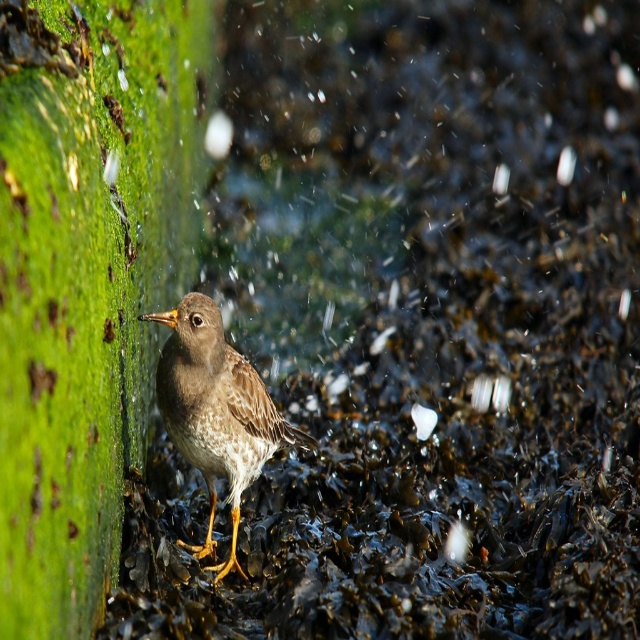Sparrow: (138, 292, 319, 585)
